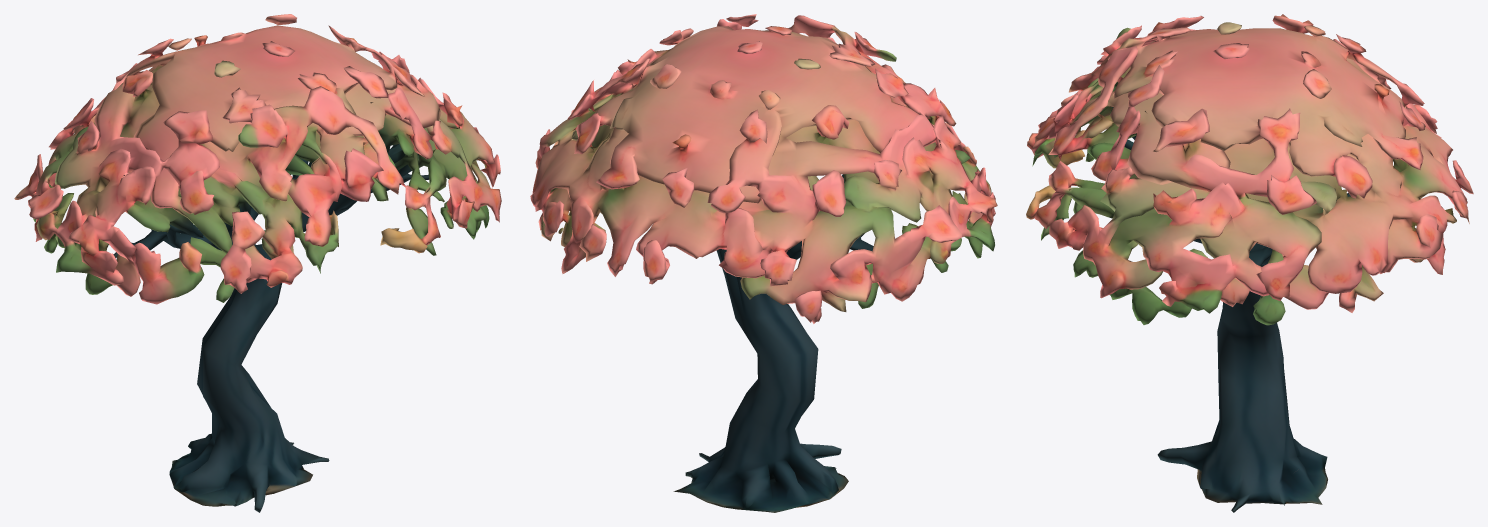
The model's file is coral_blossom.glb.
3 views of the same model, side by side, from view 1: azimuth 30°, elevation 25°; view 2: azimuth 150°, elevation 25°; view 3: azimuth 270°, elevation 25° (orthographic). The views are drawn at different scales.
Visible parts, largest first — view 1: model; view 2: model; view 3: model.
Part boxes in pixels (x1,y1,x2,y2): model: (14,14,501,512); model: (530,14,997,512); model: (1026,14,1473,512).
Size of the model in its own units: 1.85 by 1.73 by 1.59.
Materials: 1 (1 with a texture image).
